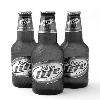beer: (30, 10, 67, 95)
